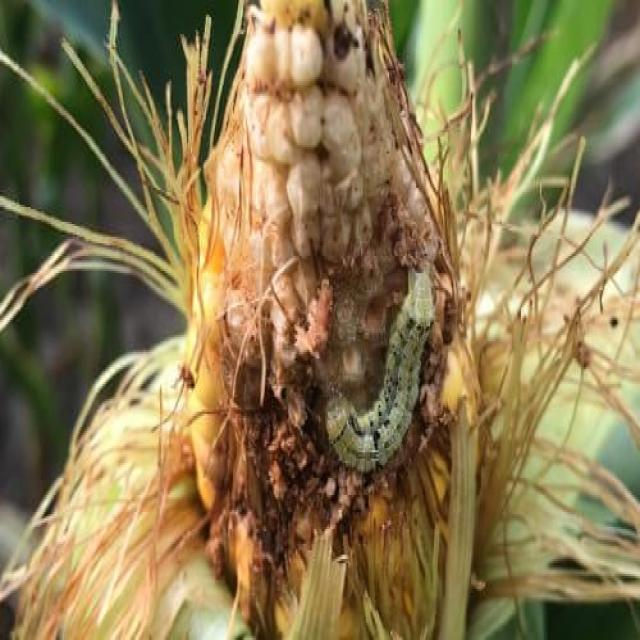cornborer-Larva-: (317, 266, 448, 485)
